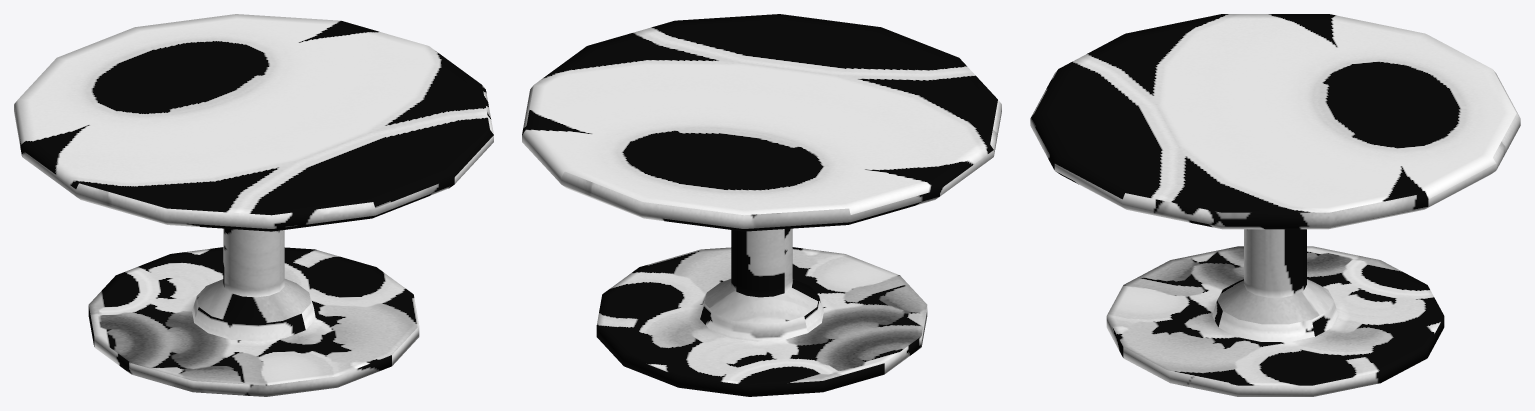
The model's file is RoundTable.fbx.
3 renders of one model, left to right at view 1: azimuth 30°, elevation 25°; view 2: azimuth 150°, elevation 25°; view 3: azimuth 270°, elevation 25°, orthographic.
Visible parts, largest first — view 1: round table; view 2: round table; view 3: round table.
Part boxes in pixels (box(x1,y1,x2,y2)): round table: box(14, 14, 493, 396); round table: box(522, 14, 1001, 396); round table: box(1030, 14, 1520, 396).
Bounding box in the file's own units: 200 × 98.58 × 205.
